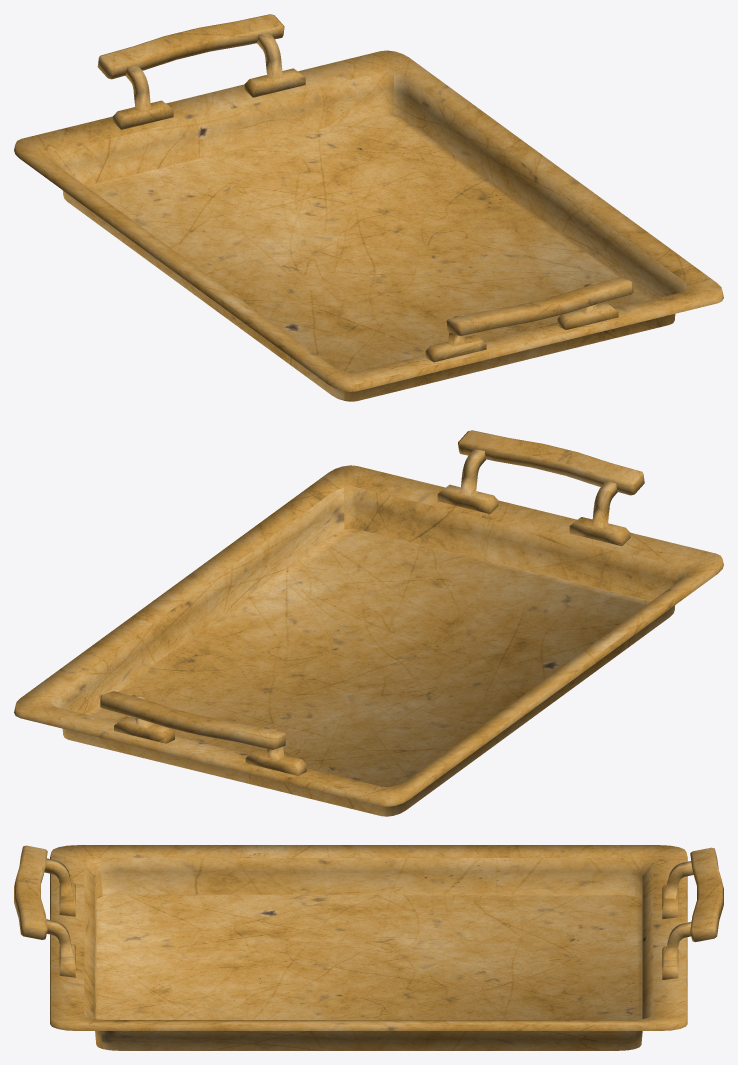
Rendered from tray-6x6.glb.
3 renders of one model, top to bottom at view 1: azimuth 30°, elevation 25°; view 2: azimuth 150°, elevation 25°; view 3: azimuth 270°, elevation 25°, orthographic. The views are drawn at different scales.
Visible parts, largest first — view 1: bandeja.001; view 2: bandeja.001; view 3: bandeja.001.
Part boxes in pixels (x1,y1,x2,y2): bandeja.001: (14, 14, 723, 401); bandeja.001: (14, 430, 723, 816); bandeja.001: (14, 845, 723, 1050).
Size of the model in its own units: 8.74 by 1.94 by 14.56.
Materials: 1 (1 with a texture image).
